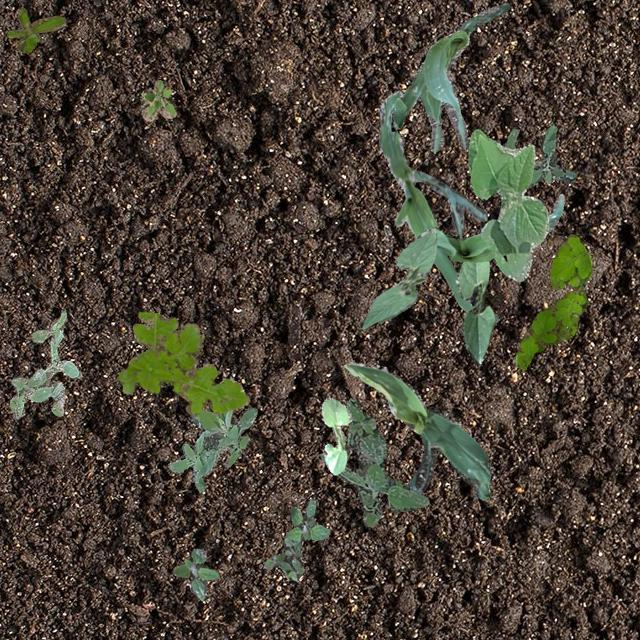crop: (378, 90, 498, 322), (342, 361, 490, 498), (392, 2, 508, 152), (468, 127, 548, 280), (434, 192, 564, 260), (360, 228, 436, 328), (456, 260, 494, 362), (320, 396, 350, 474)
weed: (320, 396, 428, 526), (116, 311, 248, 414), (514, 234, 592, 368), (8, 308, 80, 418), (168, 406, 255, 492), (504, 124, 576, 186), (5, 6, 64, 52), (172, 548, 218, 600), (284, 498, 328, 550), (262, 538, 304, 580), (140, 78, 176, 120)
